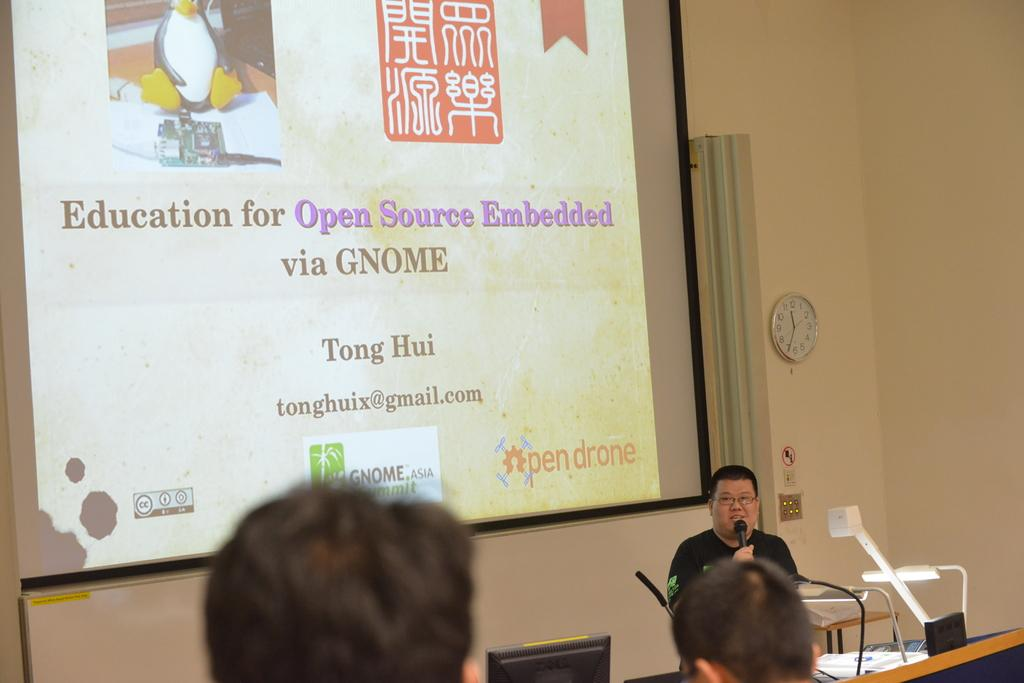Sem Máscara: (710, 476, 760, 540)
